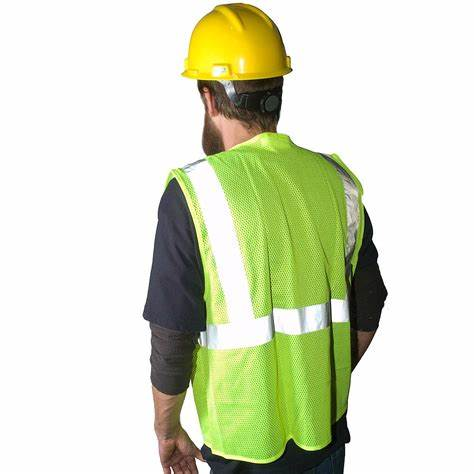Helmet: (177, 2, 304, 164)
Reflective vest: (165, 129, 365, 461)
